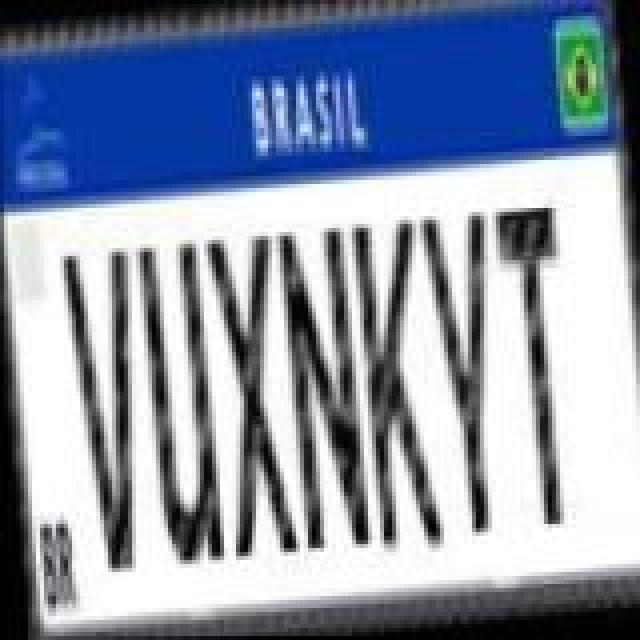K: (350, 214, 442, 558)
N: (276, 222, 372, 554)
T: (494, 200, 582, 532)
U: (136, 240, 224, 576)
V: (60, 244, 156, 576)
X: (206, 236, 298, 564)
Y: (420, 210, 516, 542)
